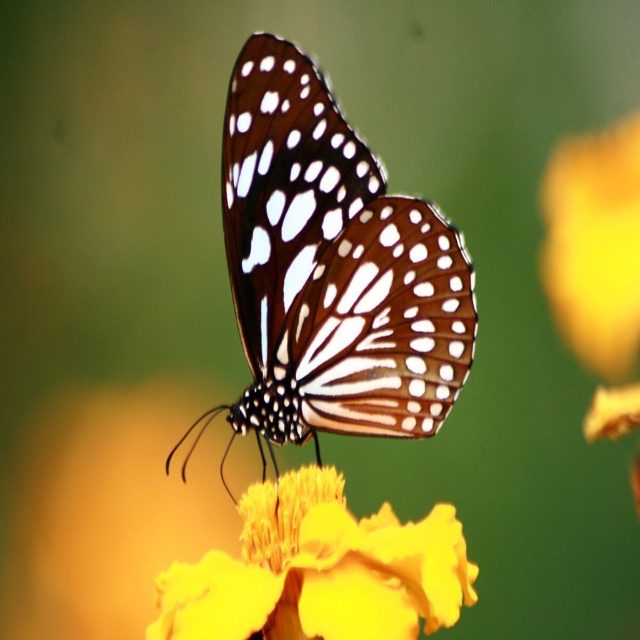Butterfly: (166, 31, 478, 514)
